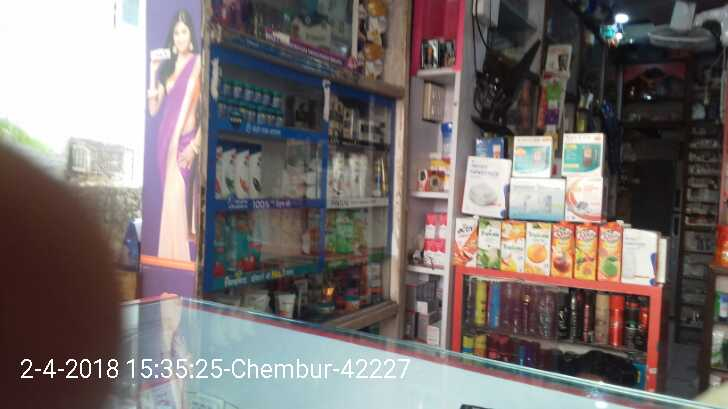vicks: (221, 75, 285, 130)
